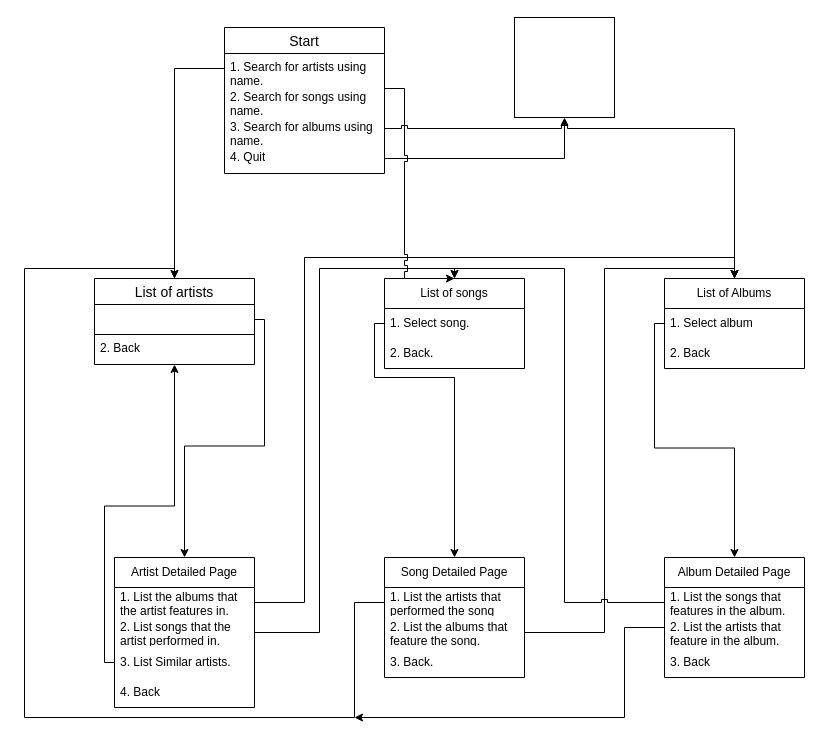
The diagram is 822 pixels wide and 743 high, and some of its shapes have lost their labels. The shapes that lost their labels are listed below. From the top down, each one's centre as x and y in pixels, then its label:
[564,67]: Closes the programm
[174,319]: 1. Select Artist
